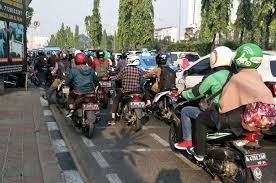motor: (172, 103, 270, 183), (68, 90, 108, 130), (114, 90, 149, 131)
